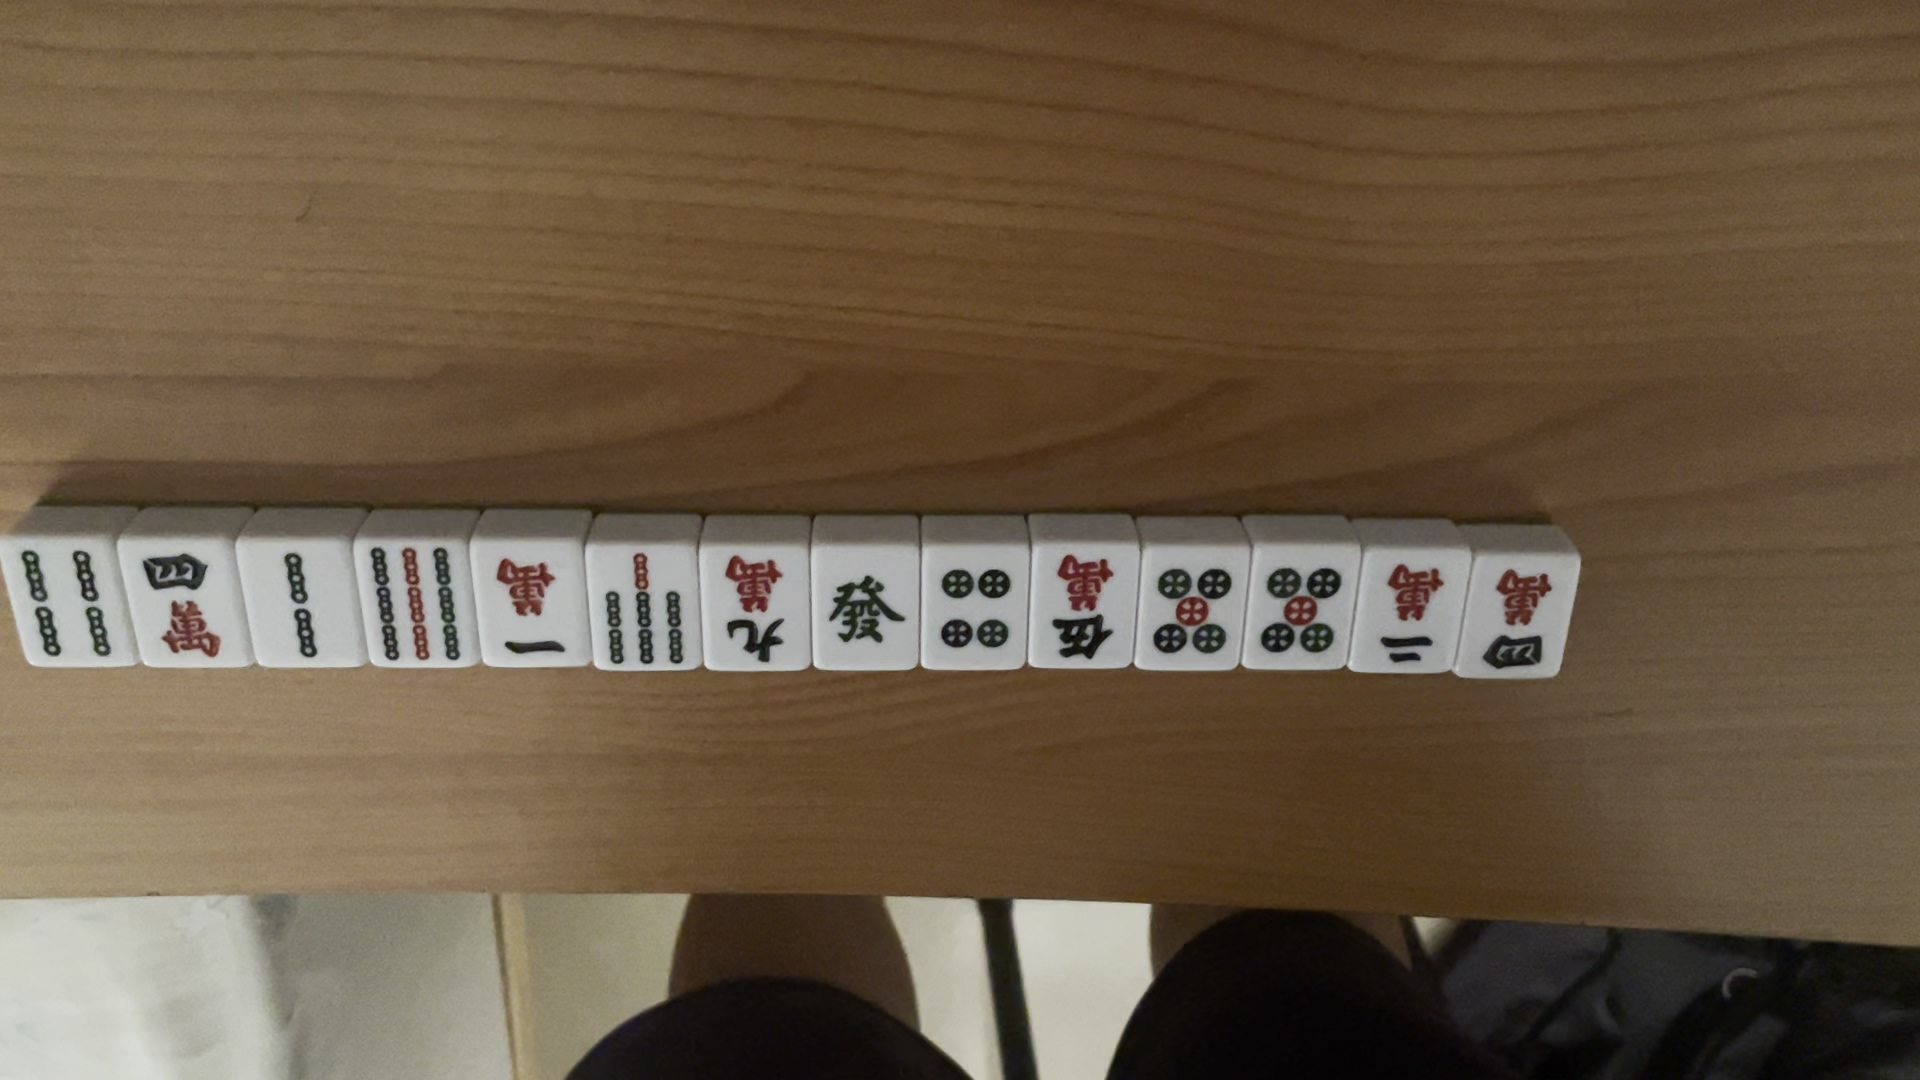b-2: (268, 549, 334, 662)
b-4: (15, 545, 123, 662)
b-7: (599, 549, 694, 667)
b-9: (363, 546, 465, 667)
c-1: (487, 556, 578, 665)
c-2: (1373, 559, 1448, 669)
c-4: (138, 550, 231, 662), (1486, 563, 1552, 676)
c-5: (1044, 550, 1124, 665)
c-9: (715, 549, 799, 673)
d-4: (931, 559, 1019, 663)
d-5: (1145, 564, 1236, 663), (1258, 564, 1348, 659)
honors-green: (825, 572, 913, 654)
